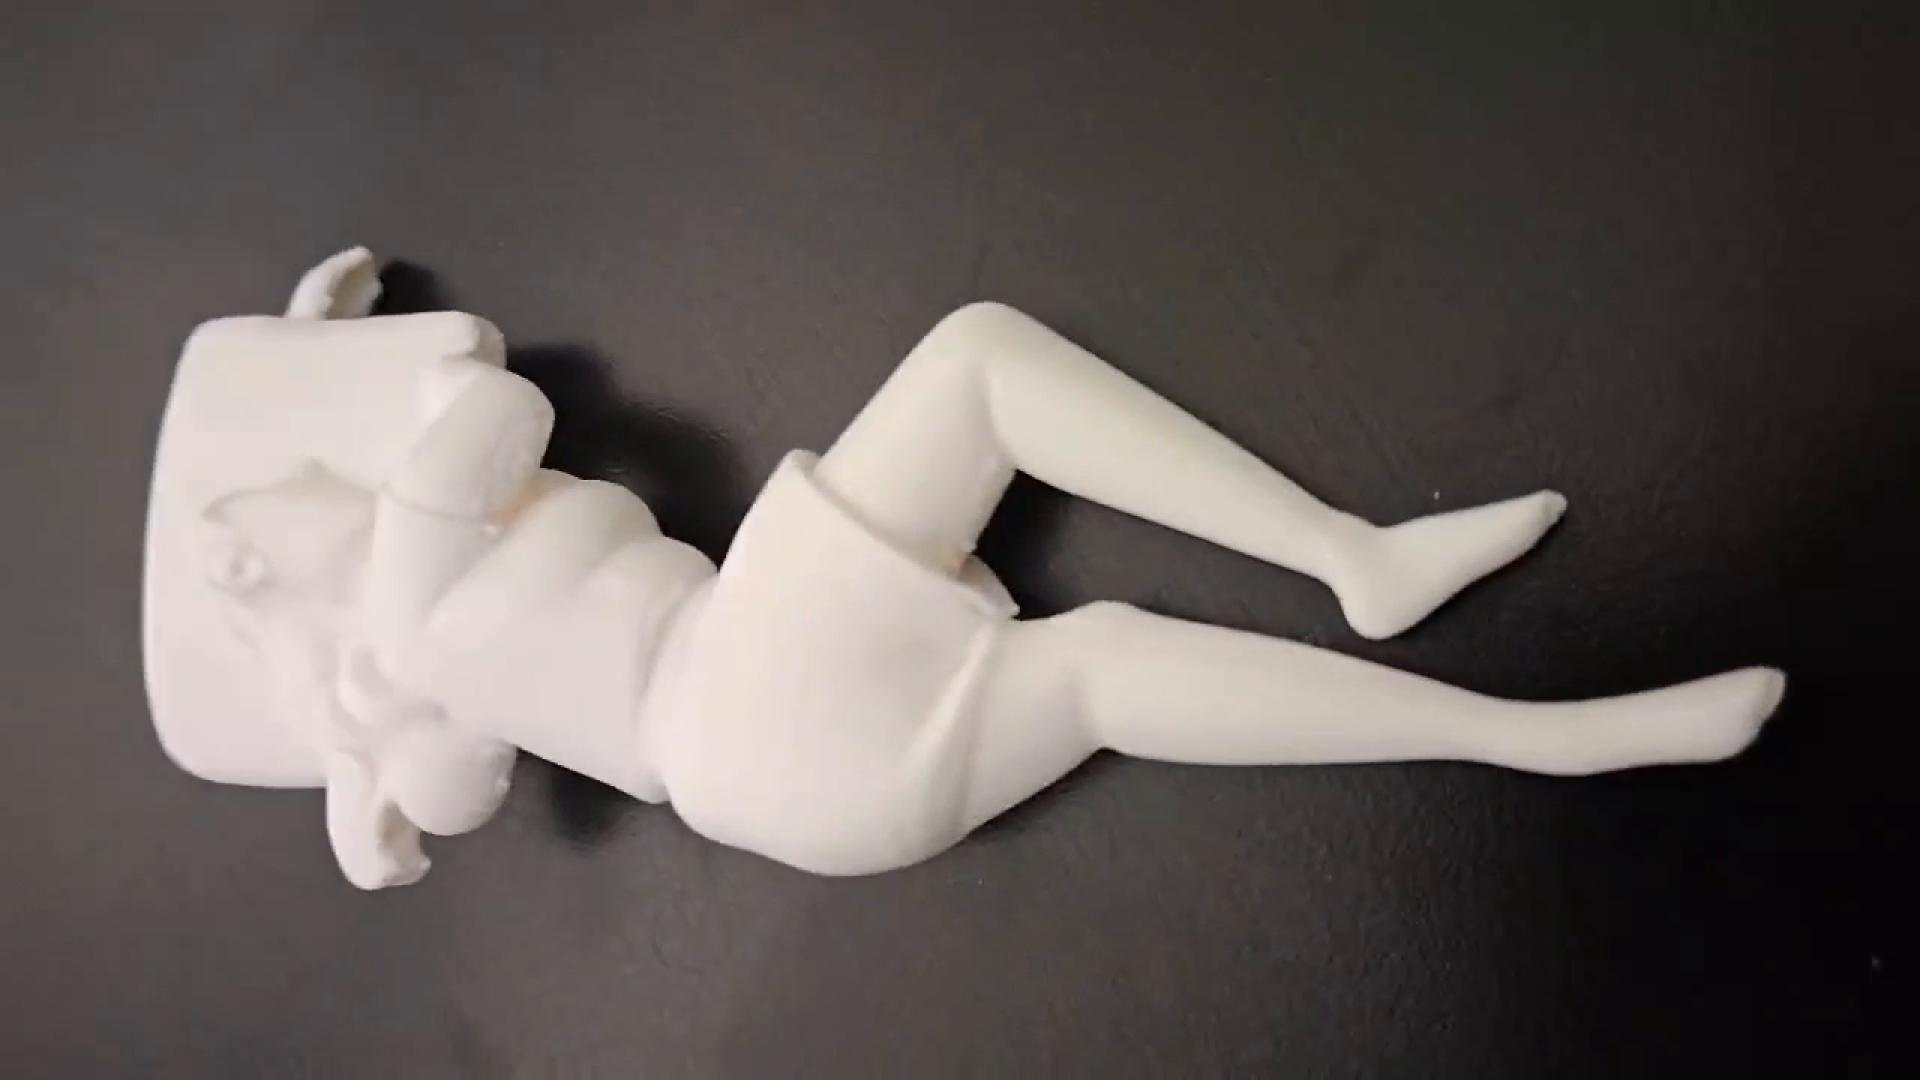Good-style: (129, 241, 1789, 897)
